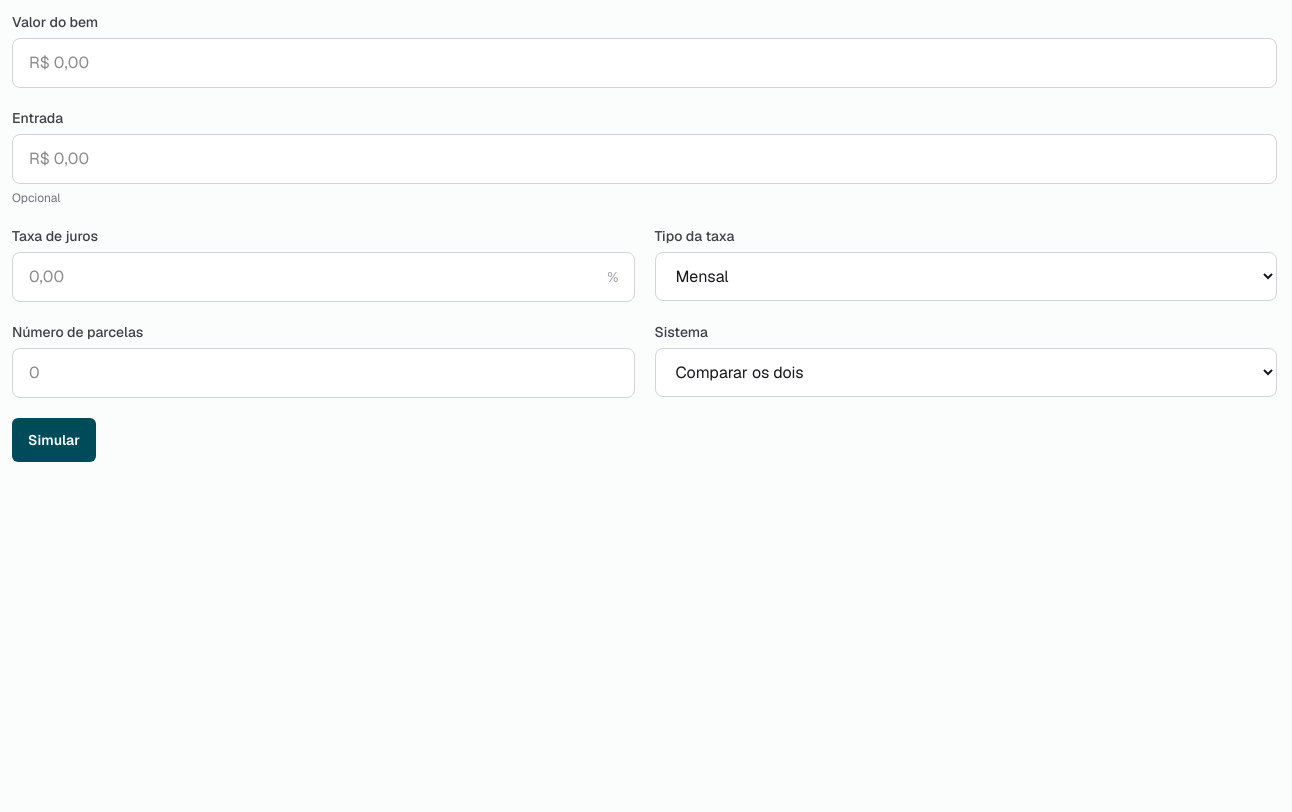
Test case: FinancingForm — validações › aceita taxa zero (não é um valor inválido)
This screenshot has width=1292, height=812.
Type "1000000" into the field labelled "Valor do bem".
click(644, 63); type("1000000")  # box [12,38,1277,88]
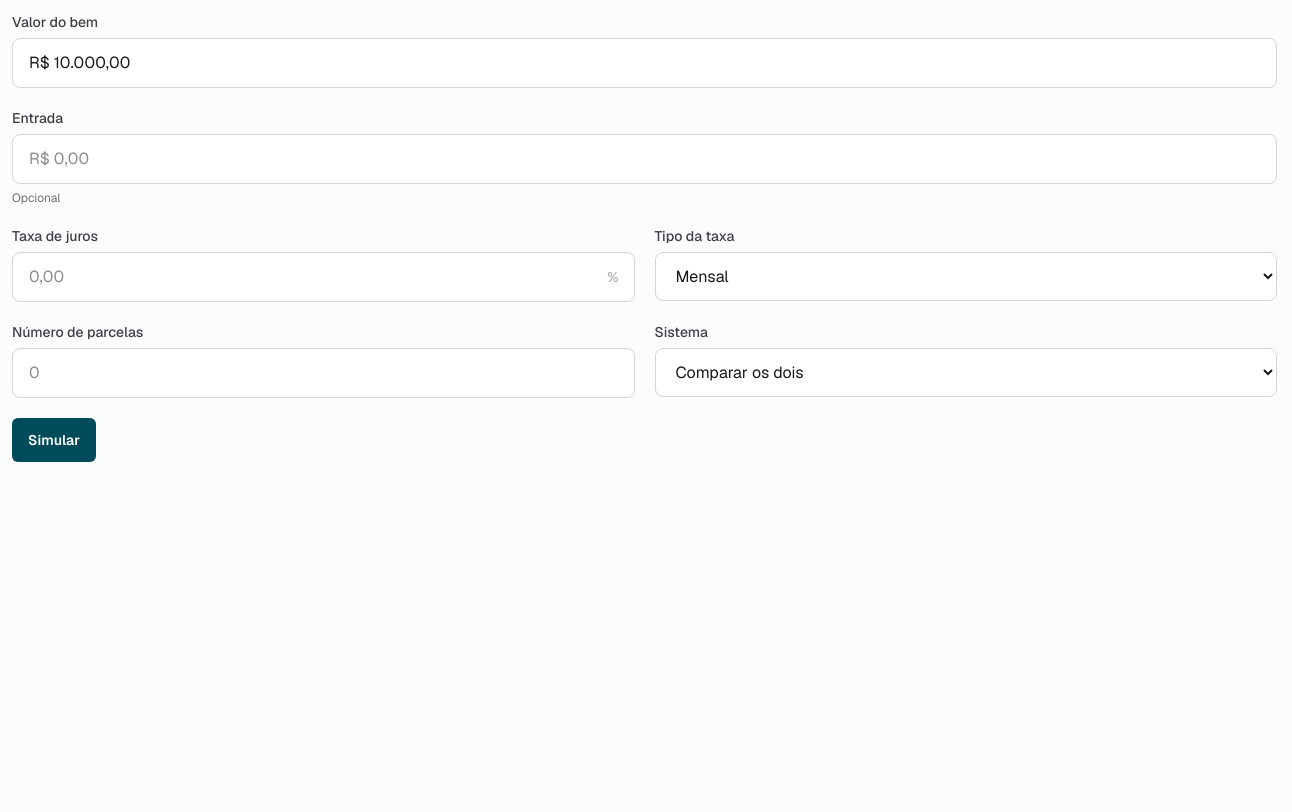
Type "0" into the field labelled "Taxa de juros".
click(323, 277); type("0")  # box [12,252,634,302]
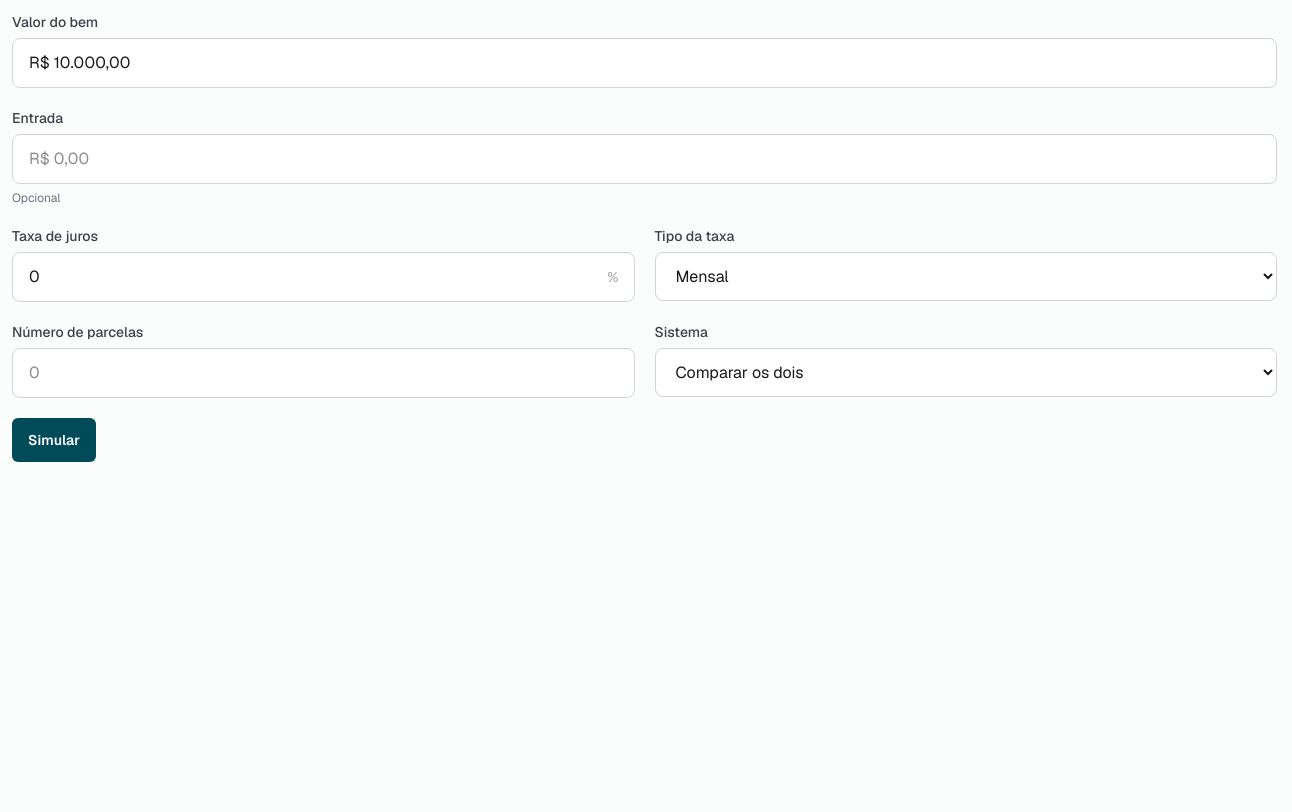
Type "12" into the field labelled "Número de parcelas".
click(323, 373); type("12")  # box [12,348,634,398]
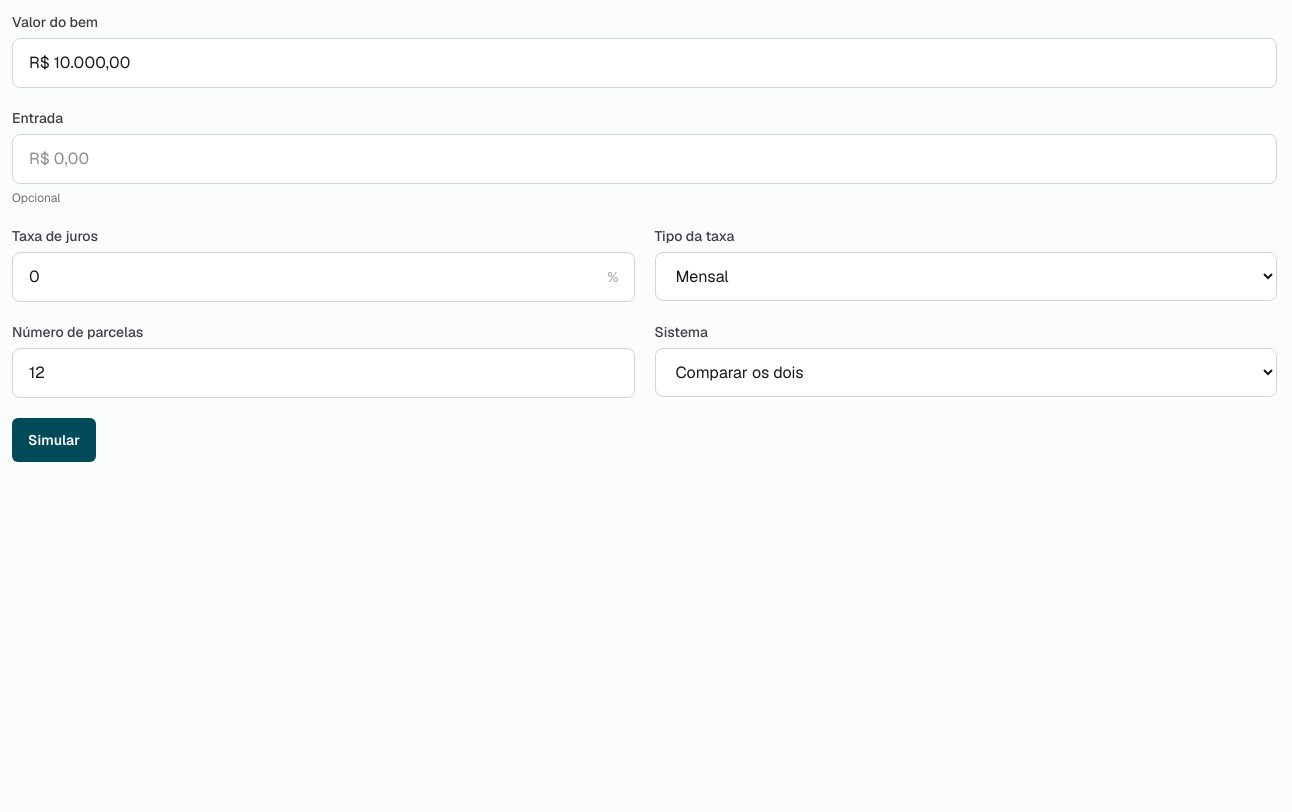
Click the button "Simular".
click(54, 440)  # box [12,418,96,462]
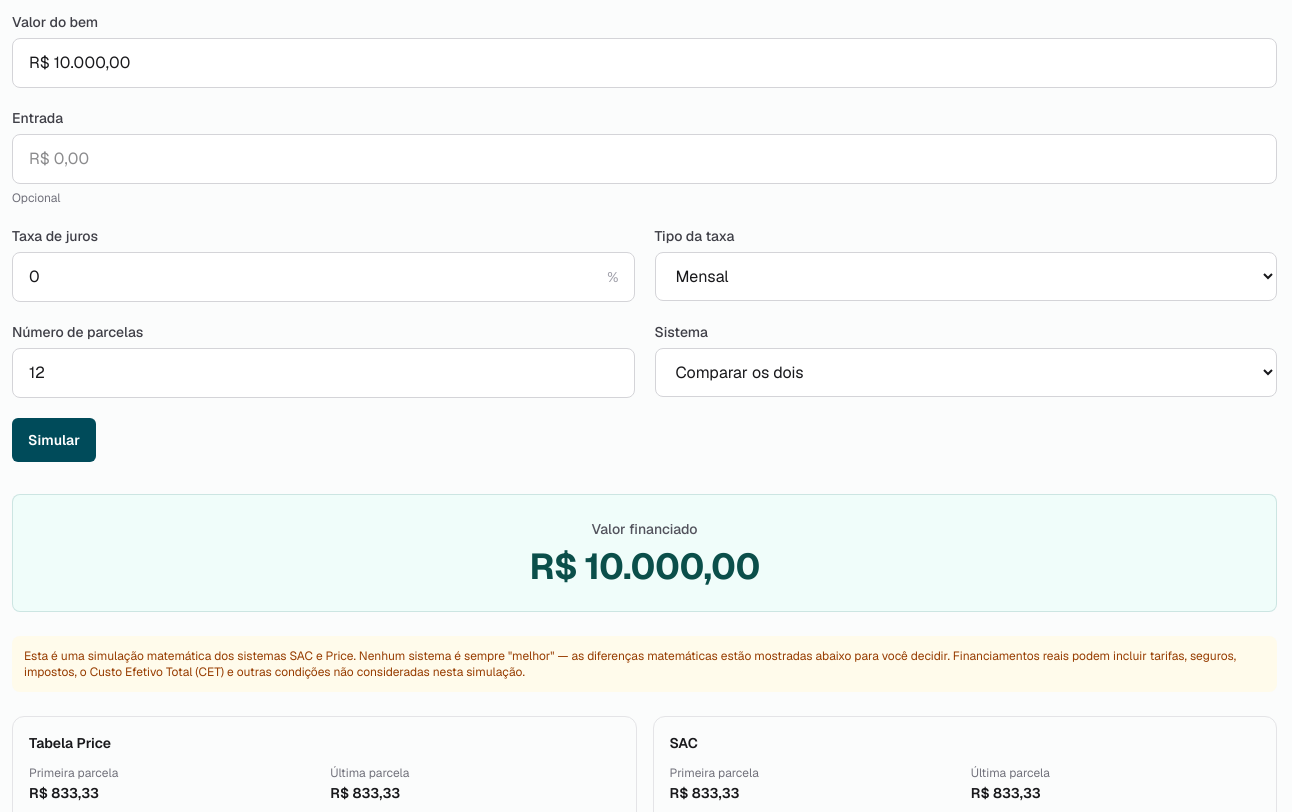
Expected: the text "Valor financiado" is shown, [591,520,698,538]
